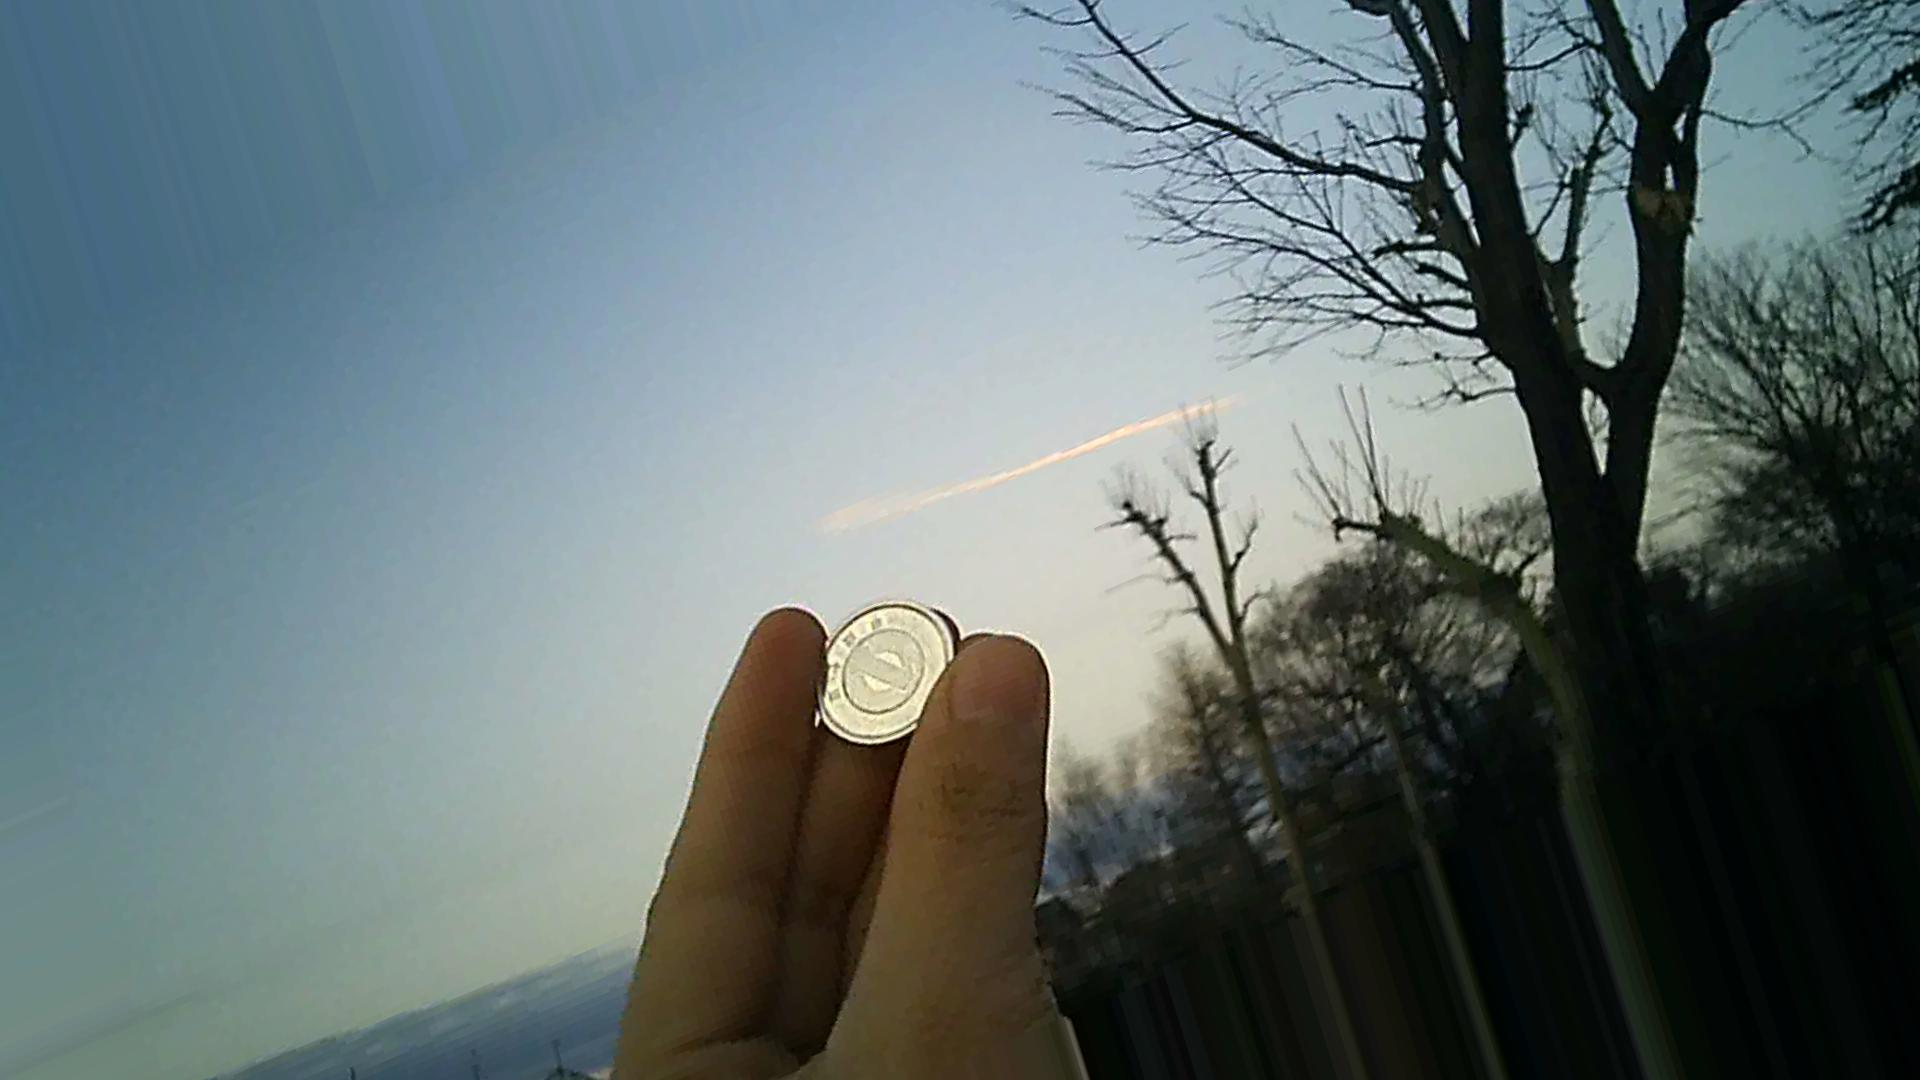1 Yen: (787, 576, 975, 746)
